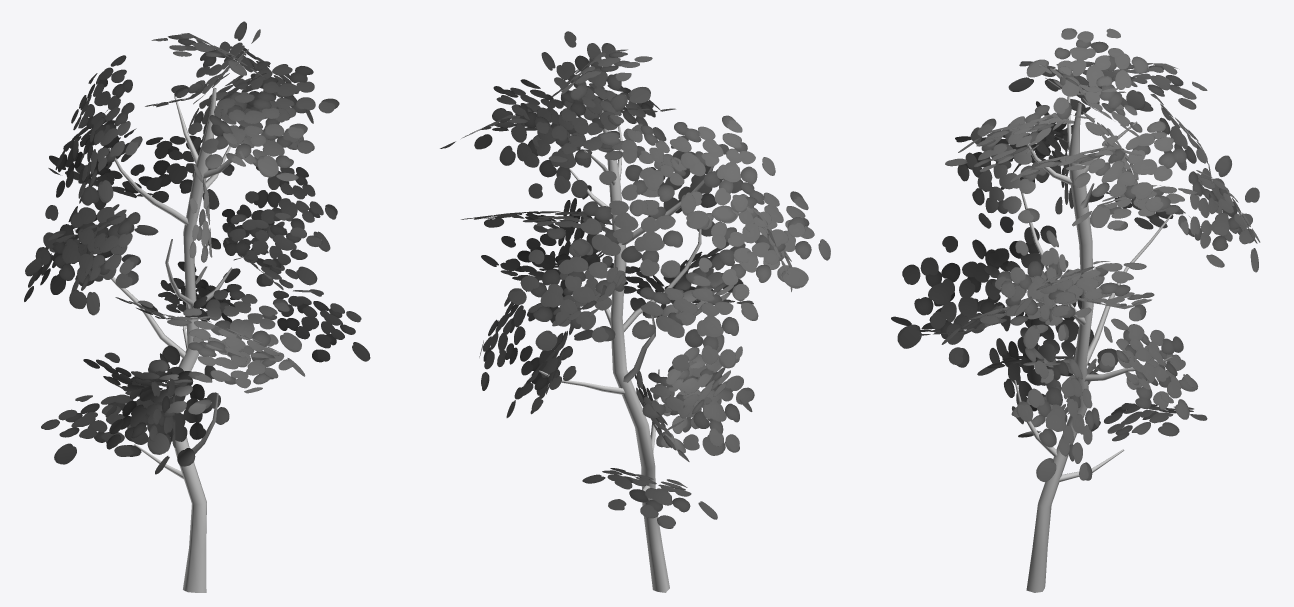
File: SM_Bush_05.fbx
3 renders of one model, left to right at view 1: azimuth 30°, elevation 25°; view 2: azimuth 150°, elevation 25°; view 3: azimuth 270°, elevation 25°, orthographic. The views are drawn at different scales.
Visible parts, largest first — view 1: SM_Bush_05_LOD0; view 2: SM_Bush_05_LOD0; view 3: SM_Bush_05_LOD0.
Part boxes in pixels (bbox=[...]): SM_Bush_05_LOD0: bbox=[24, 21, 370, 592]; SM_Bush_05_LOD0: bbox=[440, 31, 830, 592]; SM_Bush_05_LOD0: bbox=[891, 28, 1260, 592].
Size of what is drawn, in the model's own units: 1.37 by 2 by 1.32.
